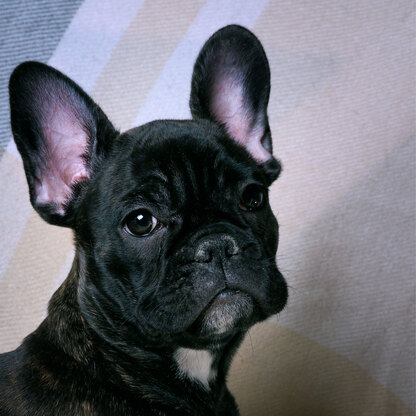bulldog: (5, 23, 300, 397)
